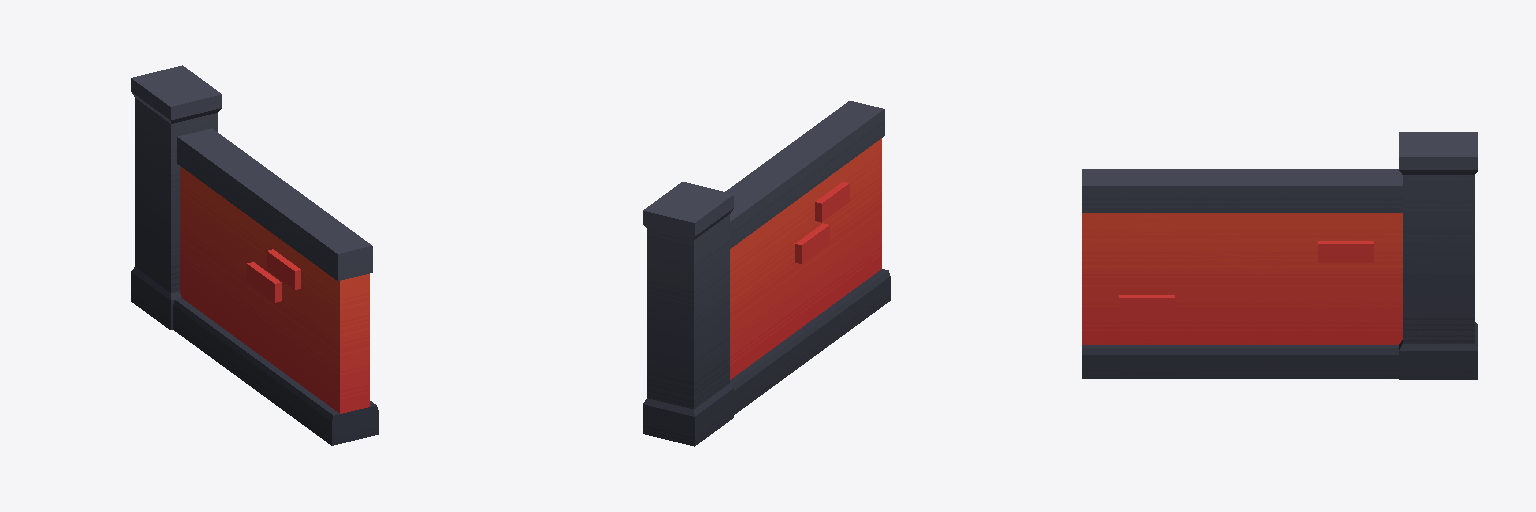
3 renders of one model, left to right at view 1: azimuth 30°, elevation 25°; view 2: azimuth 150°, elevation 25°; view 3: azimuth 270°, elevation 25°, orthographic.
Parts seen in each view (by area): view 1: brick-wall-end.002; view 2: brick-wall-end.002; view 3: brick-wall-end.002.
Part boxes in pixels (x1,y1,x2,y2): brick-wall-end.002: (131, 65, 378, 445); brick-wall-end.002: (643, 101, 890, 446); brick-wall-end.002: (1082, 132, 1477, 379).
Bounding box in the file's own units: 0.49 × 2.02 × 3.25.
Materials: 1 (1 with a texture image).